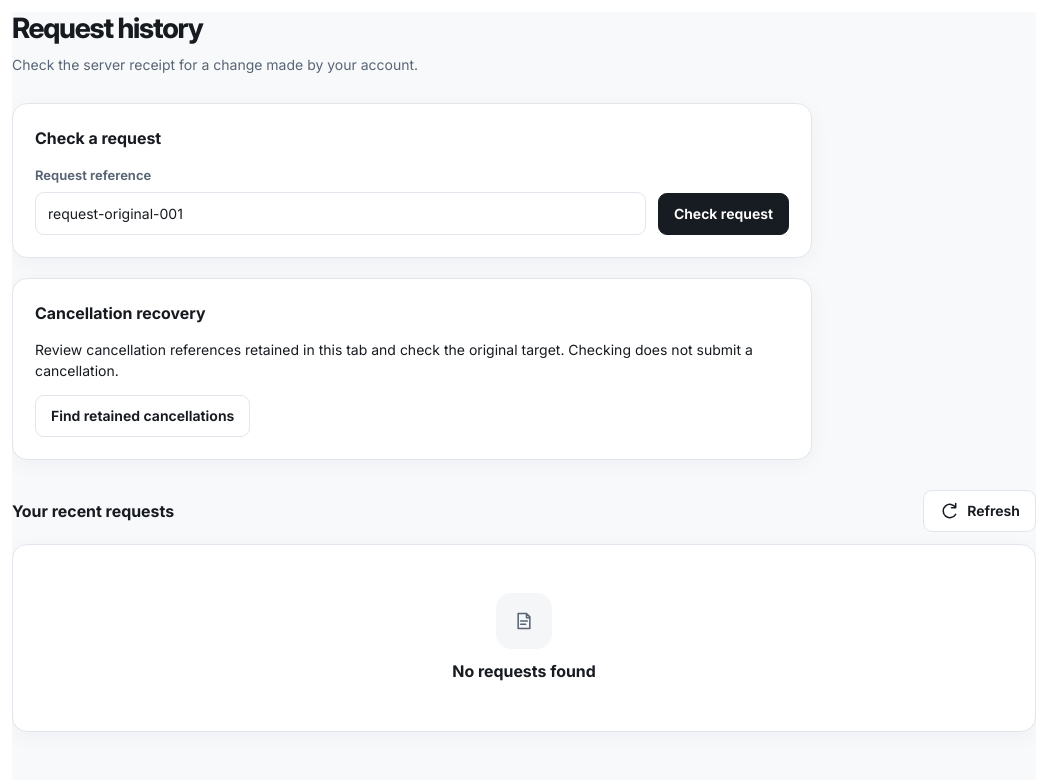
request cancellation review › keeps cancellation disabled by default and never posts
Step 1. Click the button "Check request" → [723, 214], box x1=658 y1=192 x2=789 y2=234
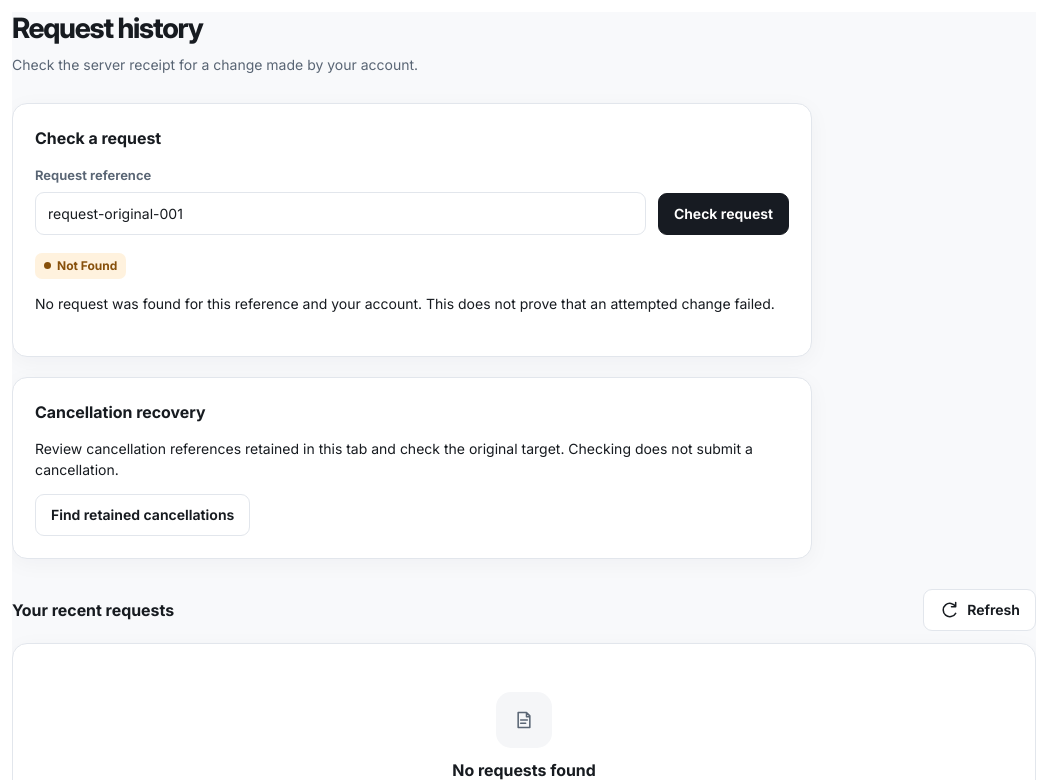
Expected: the text "does not prove that an attempted change failed" is shown, x1=35 y1=294 x2=775 y2=312
